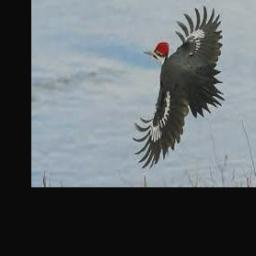Woodpecker: (132, 4, 225, 168)
